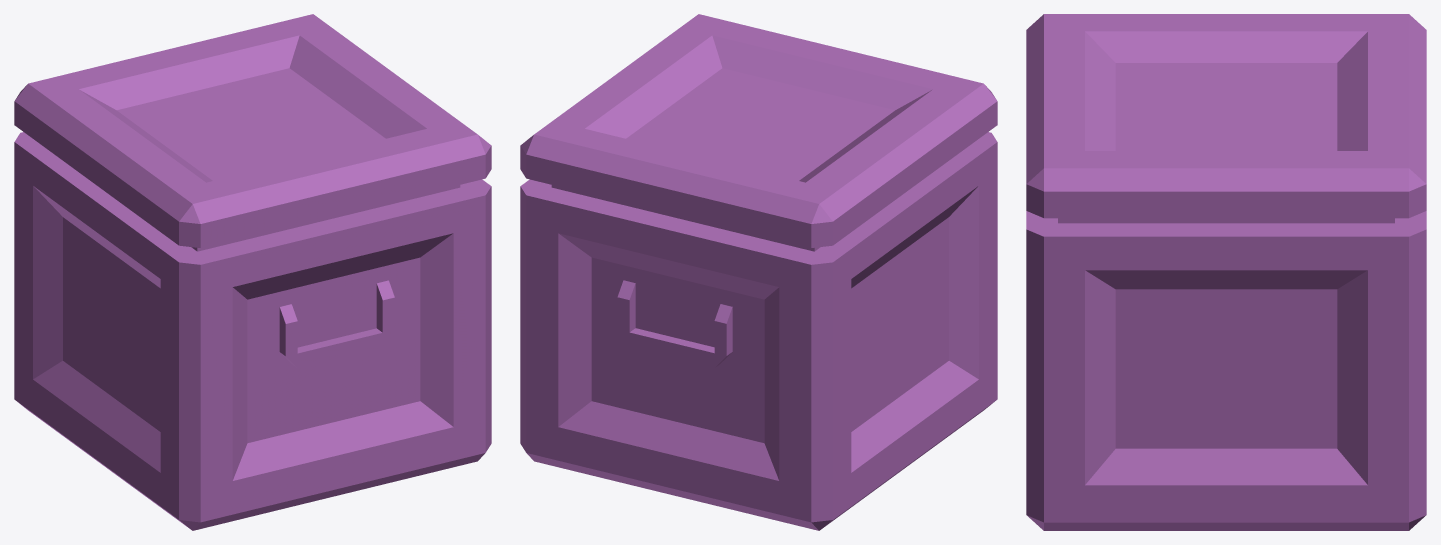
File: mesh_Crate_v2.fbx
3 views of the same model, side by side, from view 1: azimuth 30°, elevation 25°; view 2: azimuth 150°, elevation 25°; view 3: azimuth 270°, elevation 25° (orthographic). The views are drawn at different scales.
Parts seen in each view (by area): view 1: mesh_Crate_v2_0; view 2: mesh_Crate_v2_0; view 3: mesh_Crate_v2_0.
Boxes of the visible parts, box(x1,y1,x2,y2) form: mesh_Crate_v2_0: box(14, 14, 491, 530); mesh_Crate_v2_0: box(520, 14, 997, 530); mesh_Crate_v2_0: box(1026, 14, 1426, 530).
Bounding box in the file's own units: 79.17 × 79.17 × 79.17.
